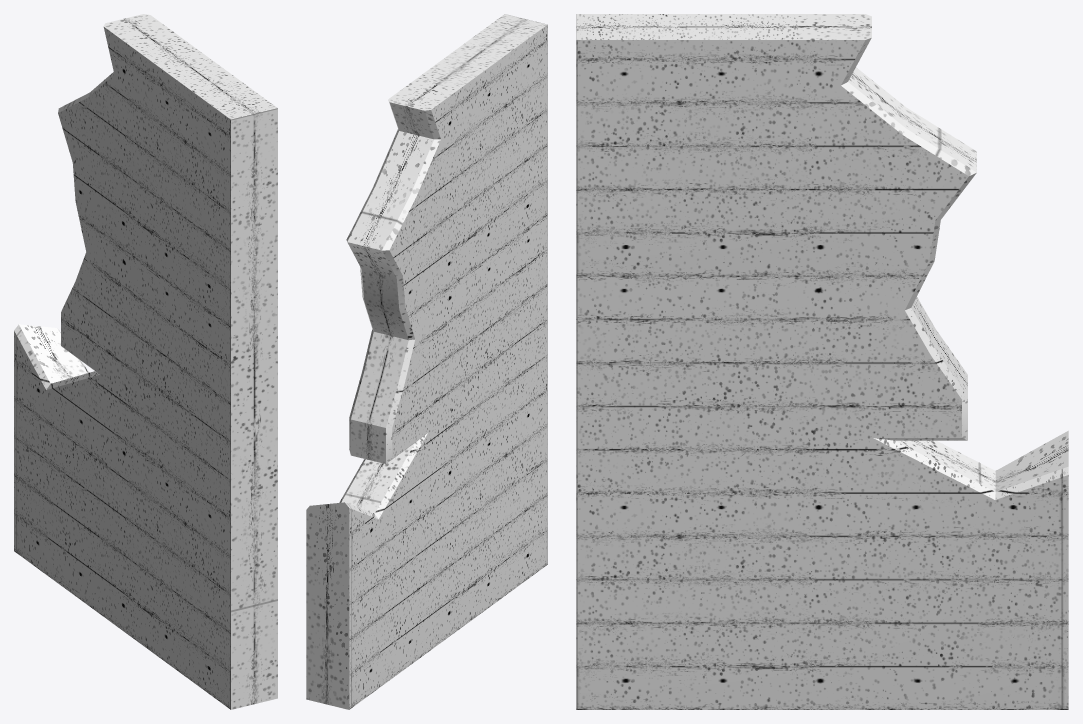
File: Wall_Cardinal_Backing_02_transition.fbx
The picture shows the model from 3 angles, left to right: view 1: azimuth 30°, elevation 25°; view 2: azimuth 150°, elevation 25°; view 3: azimuth 270°, elevation 25°; orthographic projection. The views are drawn at different scales.
Parts seen in each view (by area): view 1: wall_backing_transition_02; view 2: wall_backing_transition_02; view 3: wall_backing_transition_02.
Part boxes in pixels (x1,y1,x2,y2): wall_backing_transition_02: (14,14,277,709); wall_backing_transition_02: (306,14,547,709); wall_backing_transition_02: (576,14,1068,709).
Bounding box in the file's own units: 0.25 × 3 × 2.
